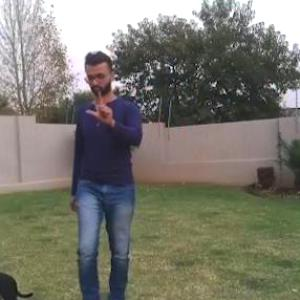land_hand: (83, 87, 117, 129)
